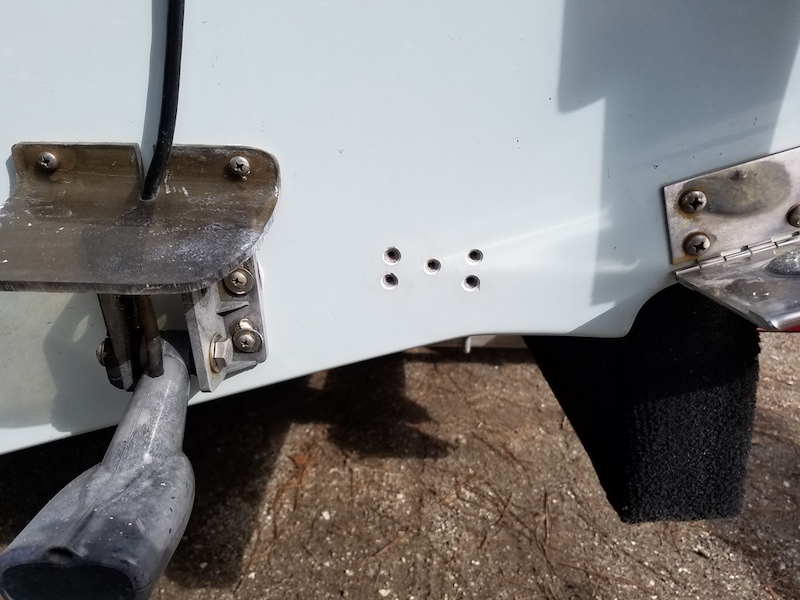bolt: (210, 335, 236, 372)
hole: (464, 247, 486, 266), (379, 272, 400, 291), (422, 257, 442, 276), (381, 247, 401, 266), (463, 274, 479, 294)
screw: (678, 190, 709, 216), (683, 231, 711, 257), (34, 151, 61, 174), (228, 156, 252, 181), (235, 332, 255, 352), (227, 273, 249, 291)
